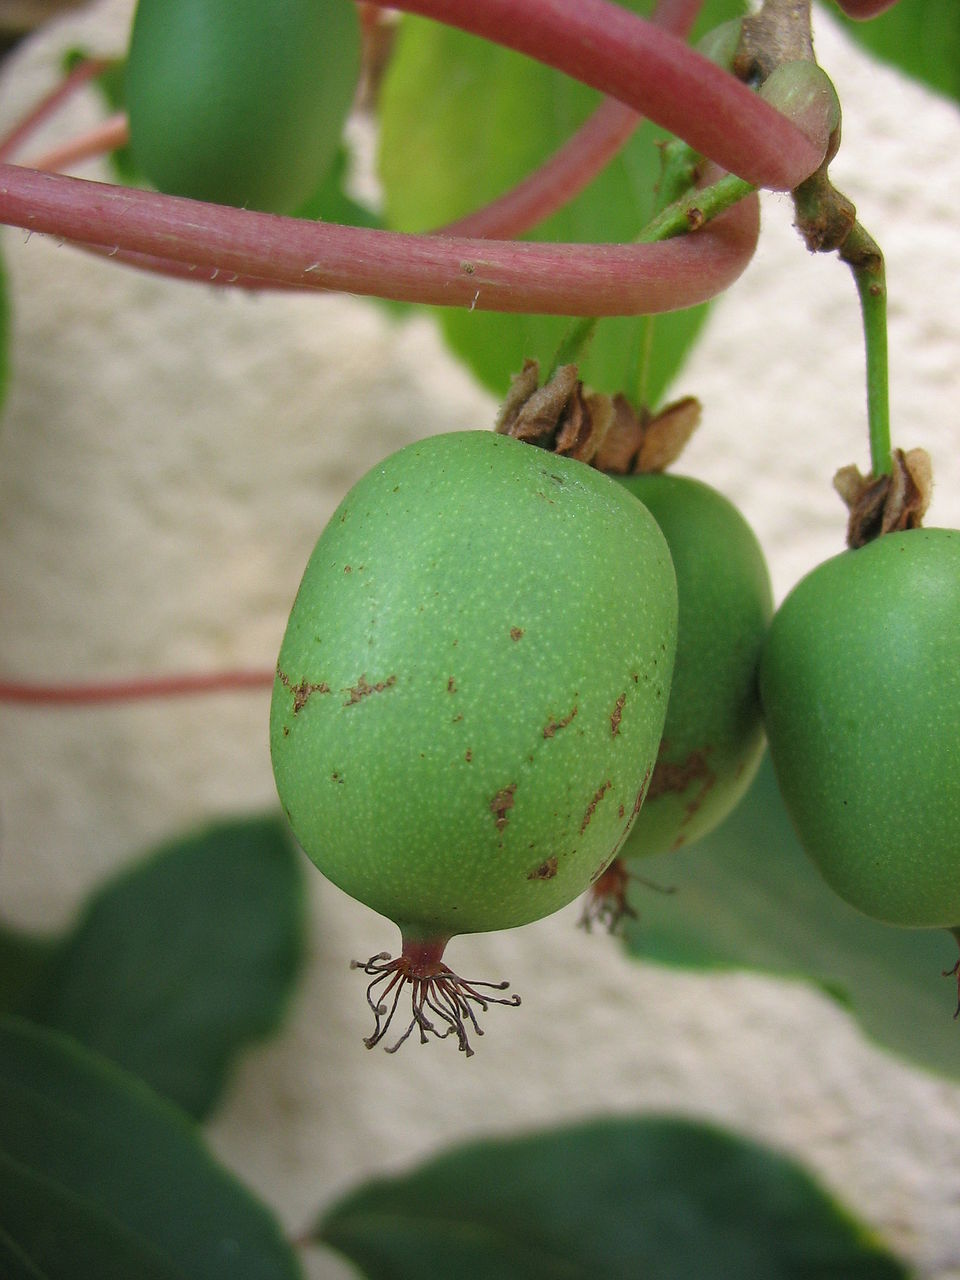kiwi: (247, 329, 698, 1079)
